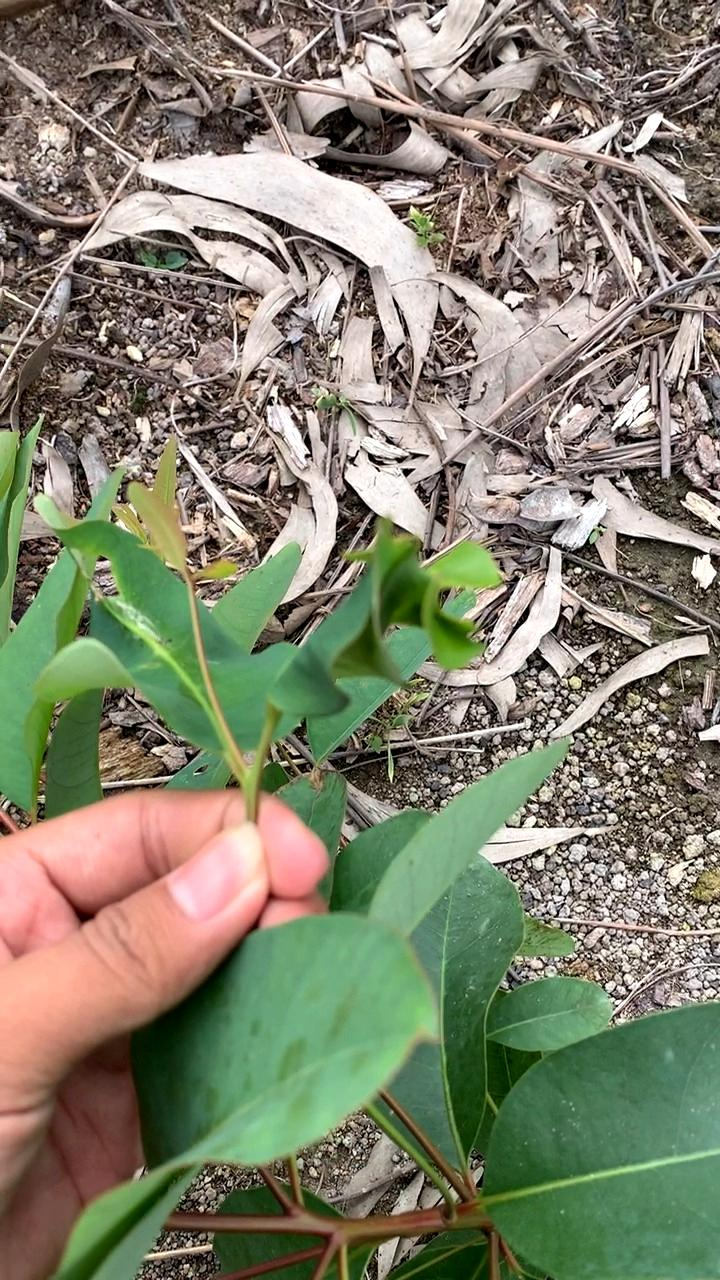Leaf Roller - Leaf: (273, 493, 516, 764)
